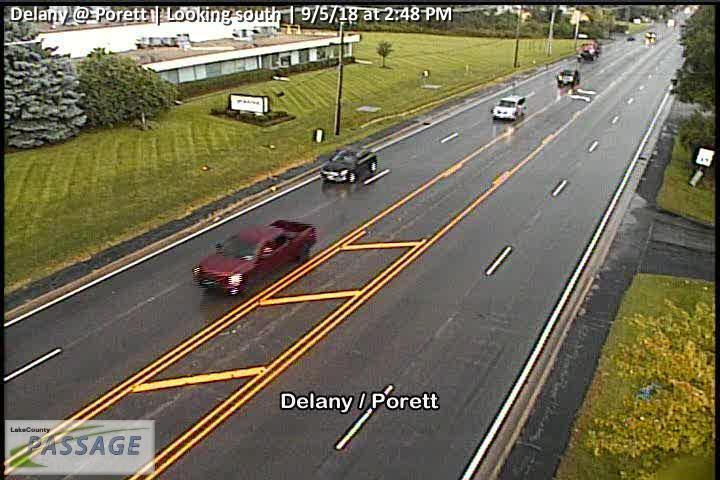SUV: (577, 39, 600, 61)
Sedan: (321, 148, 377, 183), (491, 95, 526, 119), (556, 69, 580, 88)
Truck: (192, 220, 318, 297)
